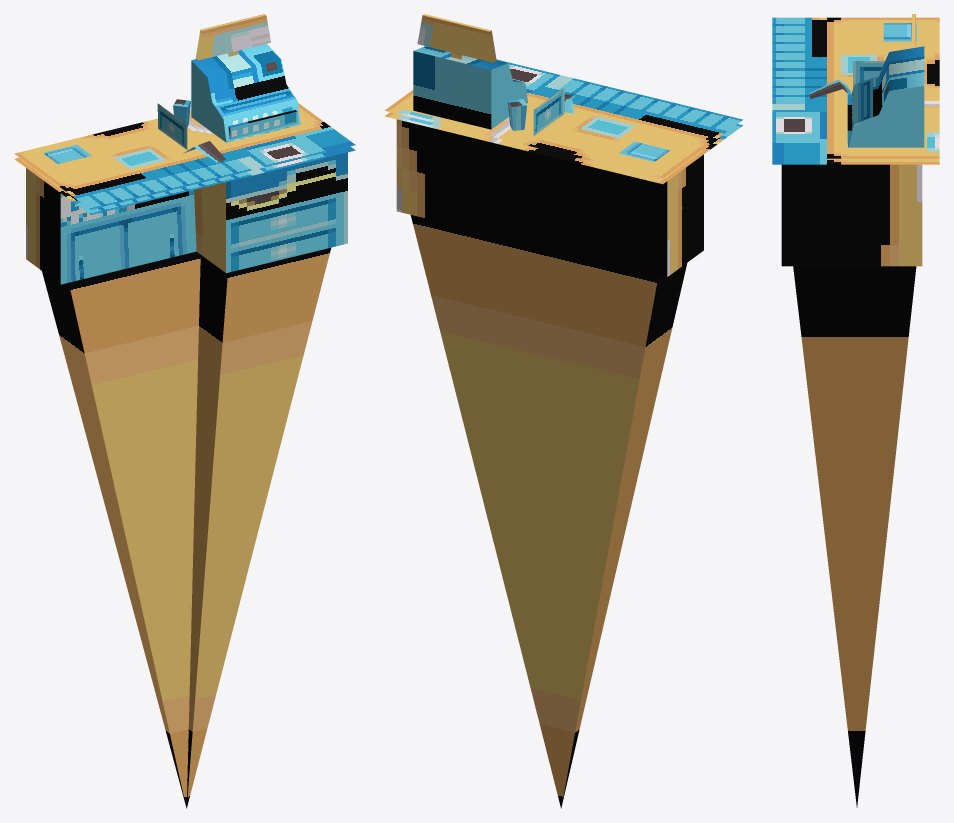
3 renders of one model, left to right at view 1: azimuth 30°, elevation 25°; view 2: azimuth 150°, elevation 25°; view 3: azimuth 270°, elevation 25°, orthographic. The views are drawn at different scales.
Parts seen in each view (by area): view 1: 3895kg3_shp17; view 2: 3895kg3_shp17; view 3: 3895kg3_shp17.
Boxes of the visible parts, x1,y1,x2,y2 form: 3895kg3_shp17: [14, 14, 355, 808]; 3895kg3_shp17: [385, 14, 742, 808]; 3895kg3_shp17: [772, 14, 939, 807].
Size of the model in its own units: 1.8 by 4.86 by 0.9014.
Materials: 3 (3 with a texture image).
